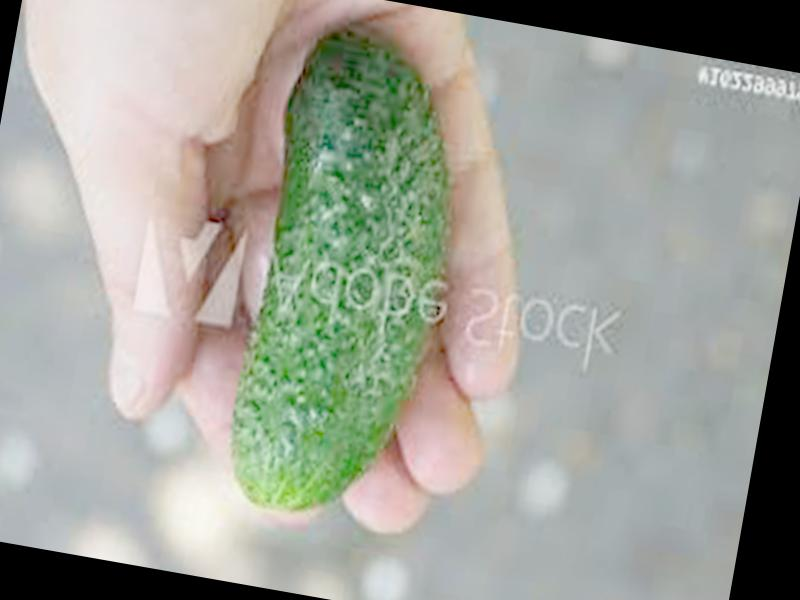Cucumber: (218, 21, 485, 528)
